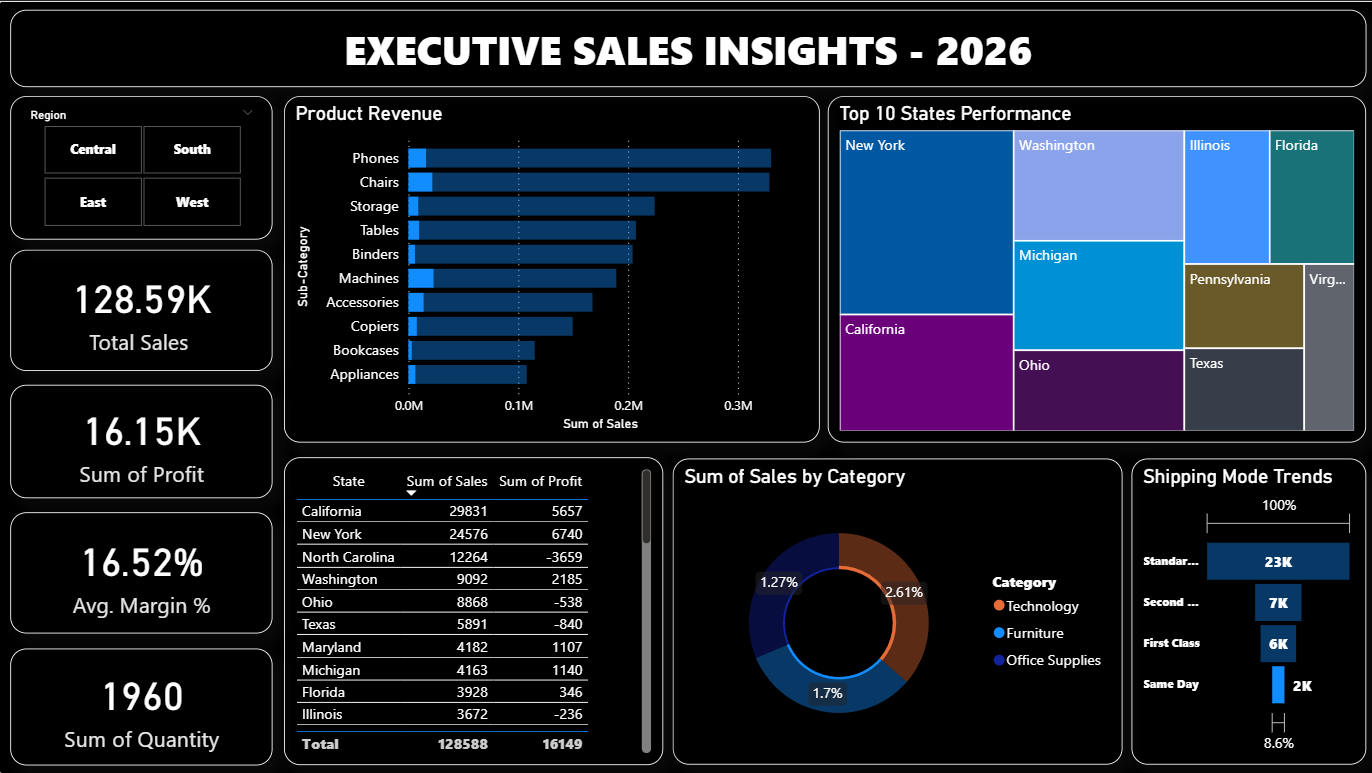

Layout of this report page (visuals, bound fields, positions):
{"tool":"powerbi","page":{"name":"Page 1","canvas":[1280,720],"ordinal":0},"visuals":[{"type":"card","fields":{"Values":["Sum(SampleSuperstore(in).Sales)"]},"box":[11,231.9,244.3,112.5],"z":0},{"type":"card","fields":{"Values":["Sum(SampleSuperstore(in).Profit)"]},"box":[11,356.8,244.3,105.7],"z":1000},{"type":"card","fields":{"Values":["Avg(SampleSuperstore(in).Profit Margin)"]},"box":[11,476.2,244.3,112.5],"z":2000},{"type":"card","fields":{"Values":["Sum(SampleSuperstore(in).Quantity)"]},"box":[11,602.4,244.3,108.4],"z":3000},{"type":"clusteredBarChart","title":"Product Revenue","fields":{"Category":["SampleSuperstore(in).Sub-Category"],"Y":["Sum(SampleSuperstore(in).Sales)"]},"box":[264.8,87.8,498.1,322.5],"z":4000},{"type":"treemap","title":"Top 10 States Performance","fields":{"Group":["SampleSuperstore(in).State"],"Values":["Avg(SampleSuperstore(in).Sales)"]},"box":[771.2,87.8,500.9,322.5],"z":5000},{"type":"donutChart","fields":{"Category":["SampleSuperstore(in).Category"],"Y":["Sum(SampleSuperstore(in).Sales)"]},"box":[626.7,425.6,418.6,284.9],"z":6000},{"type":"slicer","fields":{"Values":["SampleSuperstore(in).Region"]},"box":[10.5,88.4,244.2,133.7],"z":7000},{"type":"tableEx","fields":{"Values":["SampleSuperstore(in).State","Sum(SampleSuperstore(in).Sales)","Sum(SampleSuperstore(in).Profit)"]},"box":[264.8,424,352.7,286.8],"z":7001},{"type":"textbox","box":[10.5,8.1,1261.6,72.1],"z":7003},{"type":"funnel","title":"Shipping Mode Trends","fields":{"Category":["SampleSuperstore(in).Ship Mode"],"Y":["Sum(SampleSuperstore(in).Quantity)"]},"box":[1053.5,425.6,218.6,284.9],"z":7004}]}

Visuals, with their boxes in screenshot pixels (x1, y1, x2, y2), scaled from the page's 1280x720 canvas onto the 1372x773 screenshot:
card - Sum(SampleSuperstore(in).Sales): box=[12, 249, 274, 370]
card - Sum(SampleSuperstore(in).Profit): box=[12, 383, 274, 497]
card - Avg(SampleSuperstore(in).Profit Margin): box=[12, 511, 274, 632]
card - Sum(SampleSuperstore(in).Quantity): box=[12, 647, 274, 763]
"Product Revenue" clusteredBarChart: box=[284, 94, 818, 441]
"Top 10 States Performance" treemap: box=[827, 94, 1364, 441]
donutChart - SampleSuperstore(in).Category x Sum(SampleSuperstore(in).Sales): box=[672, 457, 1120, 763]
slicer - SampleSuperstore(in).Region: box=[11, 95, 273, 238]
tableEx - SampleSuperstore(in).State x Sum(SampleSuperstore(in).Sales): box=[284, 455, 662, 763]
textbox: box=[11, 9, 1364, 86]
"Shipping Mode Trends" funnel: box=[1129, 457, 1364, 763]
